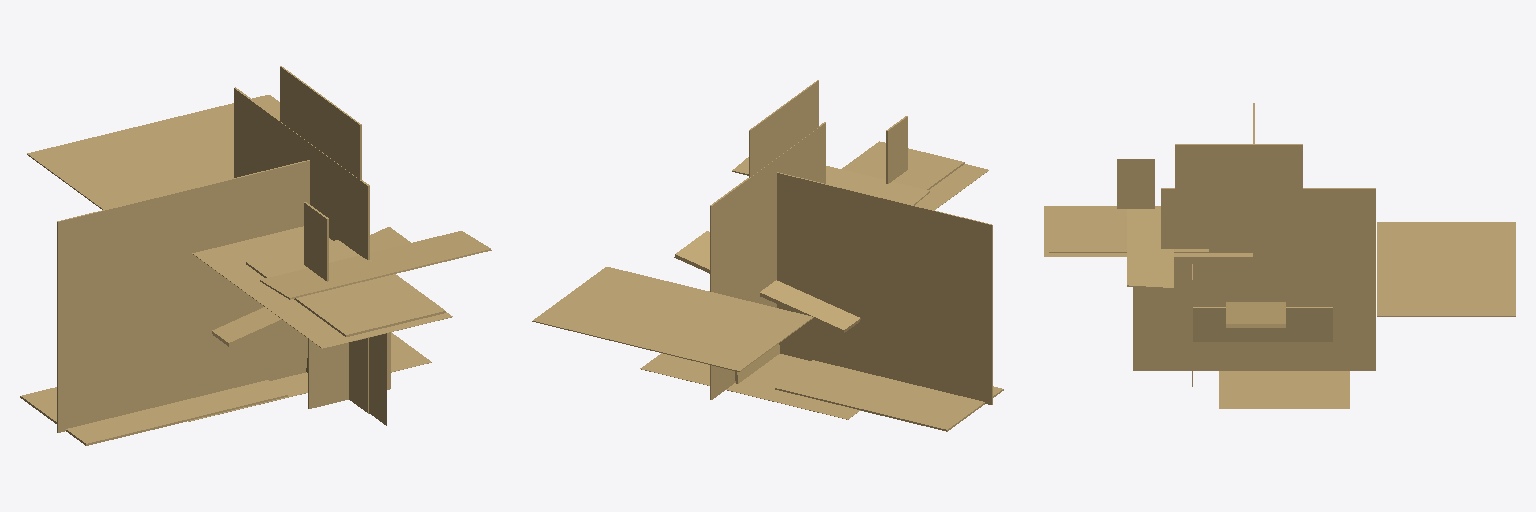
robot.urdf — evolved_design:
<?xml version="1.0" ?>
<robot name="evolved_design">
  <link name="base_link">
    <inertial>
      <mass value="0.001"/>
      <origin xyz="0 0 0" rpy="0 0 0"/>
      <inertia ixx="0.000001" ixy="0" ixz="0" iyy="0.000001" iyz="0" izz="0.000001"/>
    </inertial>
  </link>
  <link name="link_comp_0">
    <inertial>
      <mass value="0.213070"/>
      <origin xyz="0 0 0" rpy="0 0 0"/>
      <inertia ixx="0.003220040" ixy="0" ixz="0" iyy="0.009612903" iyz="0" izz="0.012832908"/>
    </inertial>
    <visual>
      <origin xyz="0 0 0" rpy="0 0 0"/>
      <geometry>
        <box size="0.735793 0.425852 0.001000"/>
      </geometry>
      <material name="link_comp_0_material">
        <color rgba="0.8 0.7 0.5 1"/>
      </material>
    </visual>
    <collision>
      <origin xyz="0 0 0" rpy="0 0 0"/>
      <geometry>
        <box size="0.735793 0.425852 0.001000"/>
      </geometry>
    </collision>
  </link>
  <joint name="base_link_to_link_comp_0" type="fixed">
    <parent link="base_link"/>
    <child link="link_comp_0"/>
    <origin xyz="0.367897 0.212926 0.000381" rpy="0.000000 0.000000 0.000000"/>
  </joint>
  <link name="link_comp_1">
    <inertial>
      <mass value="0.689062"/>
      <origin xyz="0 0 0" rpy="0 0 0"/>
      <inertia ixx="0.015147358" ixy="0" ixz="0" iyy="0.003102025" iyz="0" izz="0.012055752"/>
    </inertial>
    <visual>
      <origin xyz="0 0 0" rpy="0 0 0"/>
      <geometry>
        <box size="0.009525 0.458105 0.232231"/>
      </geometry>
      <material name="link_comp_1_material">
        <color rgba="0.8 0.7 0.5 1"/>
      </material>
    </visual>
    <collision>
      <origin xyz="0 0 0" rpy="0 0 0"/>
      <geometry>
        <box size="0.009525 0.458105 0.232231"/>
      </geometry>
    </collision>
  </link>
  <joint name="base_link_to_link_comp_1" type="fixed">
    <parent link="base_link"/>
    <child link="link_comp_1"/>
    <origin xyz="0.435406 0.143126 0.117377" rpy="0.000000 0.104094 0.000000"/>
  </joint>
  <link name="link_comp_2">
    <inertial>
      <mass value="0.788748"/>
      <origin xyz="0 0 0" rpy="0 0 0"/>
      <inertia ixx="0.033801547" ixy="0" ixz="0" iyy="0.022192854" iyz="0" izz="0.011611658"/>
    </inertial>
    <visual>
      <origin xyz="0 0 0" rpy="0 0 0"/>
      <geometry>
        <box size="0.004750 0.420282 0.581050"/>
      </geometry>
      <material name="link_comp_2_material">
        <color rgba="0.8 0.7 0.5 1"/>
      </material>
    </visual>
    <collision>
      <origin xyz="0 0 0" rpy="0 0 0"/>
      <geometry>
        <box size="0.004750 0.420282 0.581050"/>
      </geometry>
    </collision>
  </link>
  <joint name="base_link_to_link_comp_2" type="fixed">
    <parent link="base_link"/>
    <child link="link_comp_2"/>
    <origin xyz="0.435892 0.063868 0.524517" rpy="0.000000 0.000000 0.000000"/>
  </joint>
  <link name="link_comp_3">
    <inertial>
      <mass value="0.307464"/>
      <origin xyz="0 0 0" rpy="0 0 0"/>
      <inertia ixx="0.000625379" ixy="0" ixz="0" iyy="0.009522012" iyz="0" izz="0.010146235"/>
    </inertial>
    <visual>
      <origin xyz="0 0 0" rpy="0 0 0"/>
      <geometry>
        <box size="0.609600 0.156158 0.004750"/>
      </geometry>
      <material name="link_comp_3_material">
        <color rgba="0.8 0.7 0.5 1"/>
      </material>
    </visual>
    <collision>
      <origin xyz="0 0 0" rpy="0 0 0"/>
      <geometry>
        <box size="0.609600 0.156158 0.004750"/>
      </geometry>
    </collision>
  </link>
  <joint name="base_link_to_link_comp_3" type="fixed">
    <parent link="base_link"/>
    <child link="link_comp_3"/>
    <origin xyz="0.434955 -0.224852 0.441956" rpy="-0.065774 0.000000 0.000000"/>
  </joint>
  <link name="link_comp_4">
    <inertial>
      <mass value="0.207379"/>
      <origin xyz="0 0 0" rpy="0 0 0"/>
      <inertia ixx="0.002554878" ixy="0" ixz="0" iyy="0.003633285" iyz="0" izz="0.001078755"/>
    </inertial>
    <visual>
      <origin xyz="0 0 0" rpy="0 0 0"/>
      <geometry>
        <box size="0.249824 0.003175 0.384484"/>
      </geometry>
      <material name="link_comp_4_material">
        <color rgba="0.8 0.7 0.5 1"/>
      </material>
    </visual>
    <collision>
      <origin xyz="0 0 0" rpy="0 0 0"/>
      <geometry>
        <box size="0.249824 0.003175 0.384484"/>
      </geometry>
    </collision>
  </link>
  <joint name="base_link_to_link_comp_4" type="fixed">
    <parent link="base_link"/>
    <child link="link_comp_4"/>
    <origin xyz="0.435334 -0.088014 0.192242" rpy="0.000000 0.000000 0.000000"/>
  </joint>
  <link name="link_comp_5">
    <inertial>
      <mass value="1.995208"/>
      <origin xyz="0 0 0" rpy="0 0 0"/>
      <inertia ixx="0.154036215" ixy="0" ixz="0" iyy="0.071598802" iyz="0" izz="0.082450822"/>
    </inertial>
    <visual>
      <origin xyz="0 0 0" rpy="0 0 0"/>
      <geometry>
        <box size="0.006350 0.704168 0.656189"/>
      </geometry>
      <material name="link_comp_5_material">
        <color rgba="0.8 0.7 0.5 1"/>
      </material>
    </visual>
    <collision>
      <origin xyz="0 0 0" rpy="0 0 0"/>
      <geometry>
        <box size="0.006350 0.704168 0.656189"/>
      </geometry>
    </collision>
  </link>
  <joint name="base_link_to_link_comp_5" type="fixed">
    <parent link="base_link"/>
    <child link="link_comp_5"/>
    <origin xyz="0.435586 0.161506 0.328095" rpy="0.000000 0.000000 0.000000"/>
  </joint>
  <link name="link_comp_6">
    <inertial>
      <mass value="1.035095"/>
      <origin xyz="0 0 0" rpy="0 0 0"/>
      <inertia ixx="0.003348512" ixy="0" ixz="0" iyy="0.032068390" iyz="0" izz="0.035389077"/>
    </inertial>
    <visual>
      <origin xyz="0 0 0" rpy="0 0 0"/>
      <geometry>
        <box size="0.609600 0.196618 0.012700"/>
      </geometry>
      <material name="link_comp_6_material">
        <color rgba="0.8 0.7 0.5 1"/>
      </material>
    </visual>
    <collision>
      <origin xyz="0 0 0" rpy="0 0 0"/>
      <geometry>
        <box size="0.609600 0.196618 0.012700"/>
      </geometry>
    </collision>
  </link>
  <joint name="base_link_to_link_comp_6" type="fixed">
    <parent link="base_link"/>
    <child link="link_comp_6"/>
    <origin xyz="0.433792 0.119749 0.240343" rpy="0.000000 -0.195291 0.000000"/>
  </joint>
  <link name="link_comp_7">
    <inertial>
      <mass value="0.680611"/>
      <origin xyz="0 0 0" rpy="0 0 0"/>
      <inertia ixx="0.015480318" ixy="0" ixz="0" iyy="0.005165872" iyz="0" izz="0.020641616"/>
    </inertial>
    <visual>
      <origin xyz="0 0 0" rpy="0 0 0"/>
      <geometry>
        <box size="0.301729 0.522395 0.006350"/>
      </geometry>
      <material name="link_comp_7_material">
        <color rgba="0.8 0.7 0.5 1"/>
      </material>
    </visual>
    <collision>
      <origin xyz="0 0 0" rpy="0 0 0"/>
      <geometry>
        <box size="0.301729 0.522395 0.006350"/>
      </geometry>
    </collision>
  </link>
  <joint name="base_link_to_link_comp_7" type="fixed">
    <parent link="base_link"/>
    <child link="link_comp_7"/>
    <origin xyz="0.304963 -0.294790 0.435906" rpy="0.000000 0.000000 0.000000"/>
  </joint>
  <link name="link_comp_8">
    <inertial>
      <mass value="0.318903"/>
      <origin xyz="0 0 0" rpy="0 0 0"/>
      <inertia ixx="0.018038372" ixy="0" ixz="0" iyy="0.005215593" iyz="0" izz="0.012822903"/>
    </inertial>
    <visual>
      <origin xyz="0 0 0" rpy="0 0 0"/>
      <geometry>
        <box size="0.001524 0.694630 0.443007"/>
      </geometry>
      <material name="link_comp_8_material">
        <color rgba="0.8 0.7 0.5 1"/>
      </material>
    </visual>
    <collision>
      <origin xyz="0 0 0" rpy="0 0 0"/>
      <geometry>
        <box size="0.001524 0.694630 0.443007"/>
      </geometry>
    </collision>
  </link>
  <joint name="base_link_to_link_comp_8" type="fixed">
    <parent link="base_link"/>
    <child link="link_comp_8"/>
    <origin xyz="0.436478 0.065222 0.221504" rpy="0.000000 0.000000 0.000000"/>
  </joint>
  <link name="link_comp_9">
    <inertial>
      <mass value="0.776109"/>
      <origin xyz="0 0 0" rpy="0 0 0"/>
      <inertia ixx="0.013358529" ixy="0" ixz="0" iyy="0.034693738" iyz="0" izz="0.048050747"/>
    </inertial>
    <visual>
      <origin xyz="0 0 0" rpy="0 0 0"/>
      <geometry>
        <box size="0.732403 0.454461 0.003429"/>
      </geometry>
      <material name="link_comp_9_material">
        <color rgba="0.8 0.7 0.5 1"/>
      </material>
    </visual>
    <collision>
      <origin xyz="0 0 0" rpy="0 0 0"/>
      <geometry>
        <box size="0.732403 0.454461 0.003429"/>
      </geometry>
    </collision>
  </link>
  <joint name="base_link_to_link_comp_9" type="fixed">
    <parent link="base_link"/>
    <child link="link_comp_9"/>
    <origin xyz="0.436421 0.741321 0.365619" rpy="0.000000 0.000000 0.000000"/>
  </joint>
  <link name="link_comp_10">
    <inertial>
      <mass value="1.500321"/>
      <origin xyz="0 0 0" rpy="0 0 0"/>
      <inertia ixx="0.046464279" ixy="0" ixz="0" iyy="0.119057487" iyz="0" izz="0.072598849"/>
    </inertial>
    <visual>
      <origin xyz="0 0 0" rpy="0 0 0"/>
      <geometry>
        <box size="0.762000 0.004750 0.609600"/>
      </geometry>
      <material name="link_comp_10_material">
        <color rgba="0.8 0.7 0.5 1"/>
      </material>
    </visual>
    <collision>
      <origin xyz="0 0 0" rpy="0 0 0"/>
      <geometry>
        <box size="0.762000 0.004750 0.609600"/>
      </geometry>
    </collision>
  </link>
  <joint name="base_link_to_link_comp_10" type="fixed">
    <parent link="base_link"/>
    <child link="link_comp_10"/>
    <origin xyz="0.049899 0.112885 0.304800" rpy="0.000000 0.000000 0.000000"/>
  </joint>
  <link name="link_comp_11">
    <inertial>
      <mass value="0.182885"/>
      <origin xyz="0 0 0" rpy="0 0 0"/>
      <inertia ixx="0.007070702" ixy="0" ixz="0" iyy="0.002376145" iyz="0" izz="0.009446816"/>
    </inertial>
    <visual>
      <origin xyz="0 0 0" rpy="0 0 0"/>
      <geometry>
        <box size="0.394854 0.681134 0.001000"/>
      </geometry>
      <material name="link_comp_11_material">
        <color rgba="0.8 0.7 0.5 1"/>
      </material>
    </visual>
    <collision>
      <origin xyz="0 0 0" rpy="0 0 0"/>
      <geometry>
        <box size="0.394854 0.681134 0.001000"/>
      </geometry>
    </collision>
  </link>
  <joint name="base_link_to_link_comp_11" type="fixed">
    <parent link="base_link"/>
    <child link="link_comp_11"/>
    <origin xyz="0.271806 -0.230846 0.424415" rpy="0.000000 0.000000 0.000000"/>
  </joint>
  <link name="link_comp_12">
    <inertial>
      <mass value="0.095640"/>
      <origin xyz="0 0 0" rpy="0 0 0"/>
      <inertia ixx="0.000380069" ixy="0" ixz="0" iyy="0.000260719" iyz="0" izz="0.000119992"/>
    </inertial>
    <visual>
      <origin xyz="0 0 0" rpy="0 0 0"/>
      <geometry>
        <box size="0.006350 0.122537 0.180755"/>
      </geometry>
      <material name="link_comp_12_material">
        <color rgba="0.8 0.7 0.5 1"/>
      </material>
    </visual>
    <collision>
      <origin xyz="0 0 0" rpy="0 0 0"/>
      <geometry>
        <box size="0.006350 0.122537 0.180755"/>
      </geometry>
    </collision>
  </link>
  <joint name="base_link_to_link_comp_12" type="fixed">
    <parent link="base_link"/>
    <child link="link_comp_12"/>
    <origin xyz="0.228854 -0.271686 0.576803" rpy="0.000000 0.000000 0.000000"/>
  </joint>
  <link name="link_comp_13">
    <inertial>
      <mass value="0.905764"/>
      <origin xyz="0 0 0" rpy="0 0 0"/>
      <inertia ixx="0.008940387" ixy="0" ixz="0" iyy="0.028052448" iyz="0" izz="0.036986748"/>
    </inertial>
    <visual>
      <origin xyz="0 0 0" rpy="0 0 0"/>
      <geometry>
        <box size="0.609600 0.344102 0.006350"/>
      </geometry>
      <material name="link_comp_13_material">
        <color rgba="0.8 0.7 0.5 1"/>
      </material>
    </visual>
    <collision>
      <origin xyz="0 0 0" rpy="0 0 0"/>
      <geometry>
        <box size="0.609600 0.344102 0.006350"/>
      </geometry>
    </collision>
  </link>
  <joint name="base_link_to_link_comp_13" type="fixed">
    <parent link="base_link"/>
    <child link="link_comp_13"/>
    <origin xyz="-0.002063 0.176435 0.003175" rpy="0.000000 0.000000 0.000000"/>
  </joint>
</robot>

--- Render facts (derived) ---
3 views of the same robot in one strip: view 1: azimuth 30°, elevation 25°; view 2: azimuth 150°, elevation 25°; view 3: azimuth 270°, elevation 25° (orthographic).
Model evolved_design with 15 links and 14 joints (14 fixed), rooted at base_link, posed all joints at 0.
Visible links, largest first — view 1: link_comp_10, link_comp_9, link_comp_5, link_comp_7, link_comp_11, link_comp_3, link_comp_13, link_comp_2, link_comp_4, link_comp_6, link_comp_12, link_comp_0 (+1 smaller); view 2: link_comp_10, link_comp_9, link_comp_5, link_comp_13, link_comp_0, link_comp_2, link_comp_6, link_comp_7, link_comp_3, link_comp_11, link_comp_12; view 3: link_comp_5, link_comp_9, link_comp_2, link_comp_0, link_comp_1, link_comp_7, link_comp_3, link_comp_8, link_comp_12, link_comp_6, link_comp_11.
Boxes of the visible links, x1,y1,x2,y2 form: link_comp_10: (57, 160, 309, 432); link_comp_9: (27, 95, 279, 209); link_comp_5: (234, 87, 369, 413); link_comp_7: (246, 240, 445, 336); link_comp_11: (192, 226, 452, 348); link_comp_3: (260, 231, 491, 299); link_comp_13: (20, 380, 287, 445); link_comp_2: (280, 66, 361, 179); link_comp_4: (308, 332, 390, 408); link_comp_6: (212, 227, 410, 346); link_comp_12: (304, 202, 328, 281); link_comp_0: (188, 332, 431, 421); link_comp_10: (777, 172, 992, 404); link_comp_9: (532, 267, 813, 371); link_comp_5: (710, 122, 825, 399); link_comp_13: (775, 360, 1003, 431); link_comp_0: (640, 353, 860, 419); link_comp_2: (749, 80, 818, 177); link_comp_6: (674, 231, 860, 333); link_comp_7: (842, 141, 964, 189); link_comp_3: (732, 157, 929, 205); link_comp_11: (915, 164, 988, 209); link_comp_12: (886, 116, 907, 183); link_comp_5: (1161, 188, 1375, 370); link_comp_9: (1377, 222, 1515, 316); link_comp_2: (1175, 144, 1302, 188); link_comp_0: (1219, 371, 1349, 408); link_comp_1: (1193, 307, 1332, 341); link_comp_7: (1049, 213, 1208, 252); link_comp_3: (1127, 208, 1173, 288); link_comp_8: (1133, 287, 1160, 370); link_comp_12: (1117, 159, 1154, 208); link_comp_6: (1226, 302, 1285, 327); link_comp_11: (1044, 206, 1252, 256).
Bounding box of the posed robot: 1.13 × 1.54 × 0.8152 m (x, y, z).
Geometry: primitives only (box / cylinder / sphere), no mesh files.